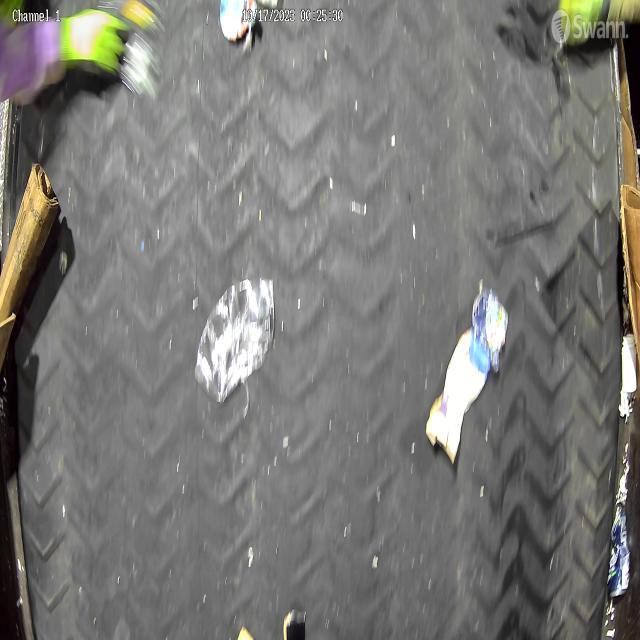can: (608, 511, 630, 599)
